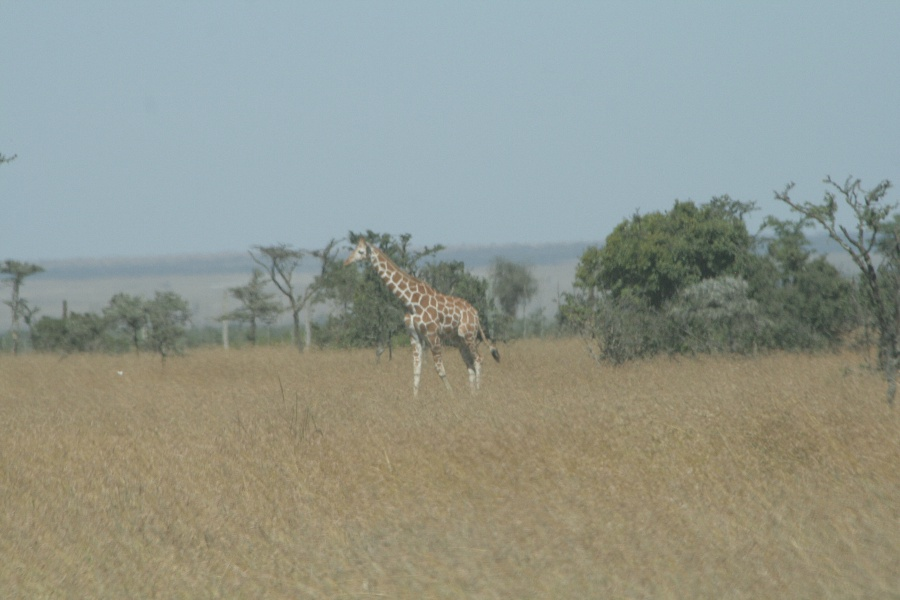giraffe: (334, 231, 498, 402)
